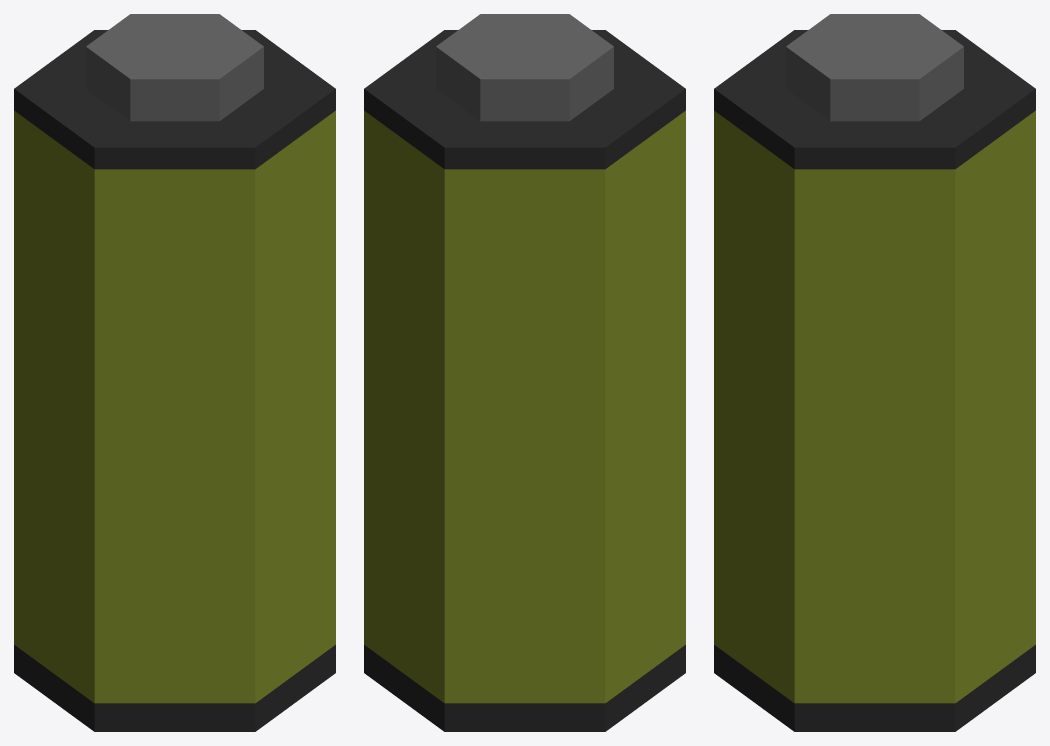
File: TestBattery.fbx
3 views of the same model, side by side, from view 1: azimuth 30°, elevation 25°; view 2: azimuth 150°, elevation 25°; view 3: azimuth 270°, elevation 25° (orthographic).
Parts seen in each view (by area): view 1: Cylinder; view 2: Cylinder; view 3: Cylinder.
Part boxes in pixels (x1,y1,x2,y2): Cylinder: [14, 14, 335, 731]; Cylinder: [364, 14, 685, 731]; Cylinder: [714, 14, 1035, 731].
Bounding box in the file's own units: 8.37 × 20.76 × 9.66.
Materials: 1 (1 with a texture image).
